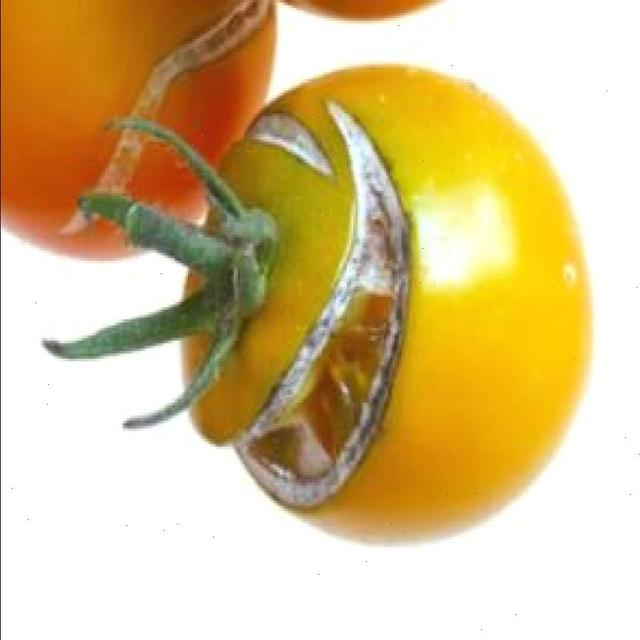Cracking Fruit: (70, 66, 209, 292)
